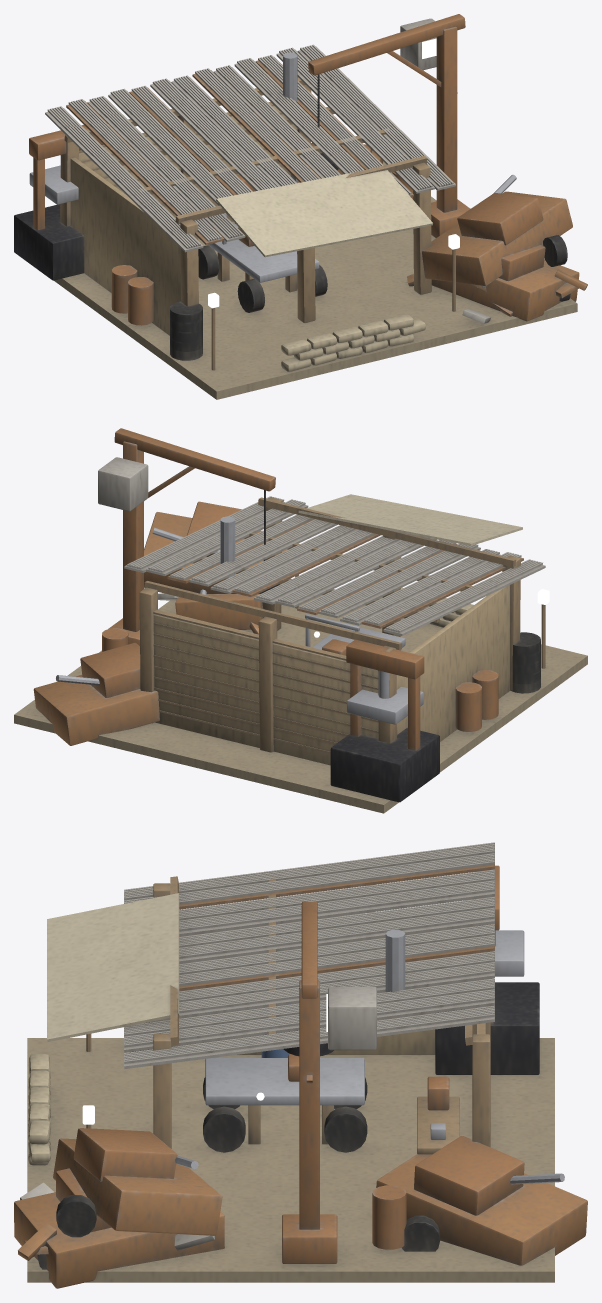
Rendered from shadow_factory.glb.
3 renders of one model, top to bottom at view 1: azimuth 30°, elevation 25°; view 2: azimuth 150°, elevation 25°; view 3: azimuth 270°, elevation 25°, orthographic. The views are drawn at different scales.
Parts seen in each view (by area): view 1: Hull; view 2: Hull; view 3: Hull.
Boxes of the visible parts, bbox=[...] form: Hull: bbox=[14, 14, 587, 399]; Hull: bbox=[14, 428, 587, 813]; Hull: bbox=[14, 842, 587, 1288].
Size of the model in its own units: 9.98 by 5.3 by 9.36.
14 materials, 14 textured.
